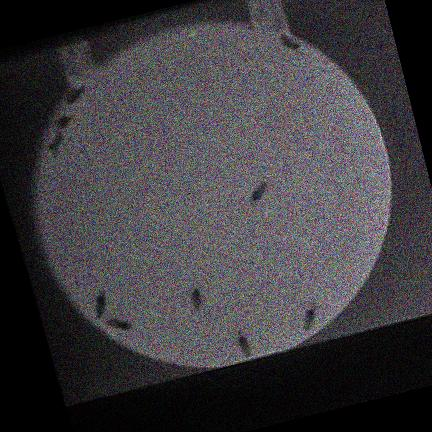fly: (250, 181, 267, 203), (302, 305, 316, 330), (94, 291, 106, 318), (279, 36, 299, 52), (47, 133, 62, 154), (106, 319, 132, 331), (66, 86, 83, 104), (237, 335, 250, 358), (55, 115, 73, 130), (190, 289, 202, 311)
